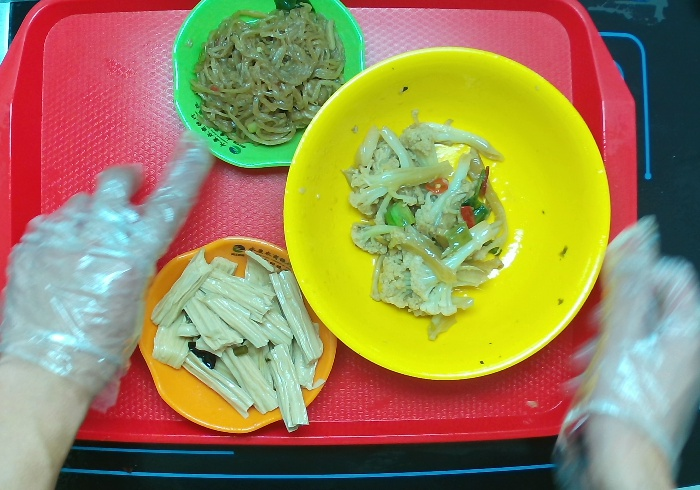YKMZ-Huang_Se_Tang_Wan: (277, 43, 616, 385)
YKMZ-Ju_Se_Ao_Bian_Wan: (136, 232, 342, 436)
YKMZ-Lv_Se_Ao_Bian_Wan: (166, 1, 370, 173)
